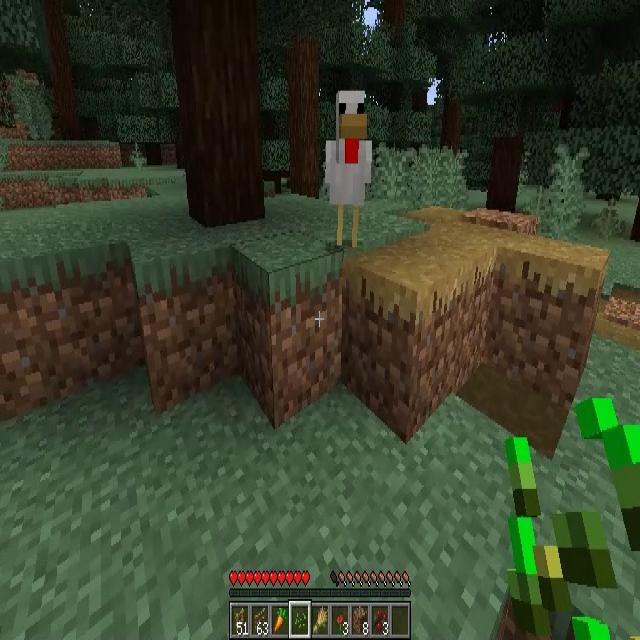duck: (327, 90, 373, 248)
